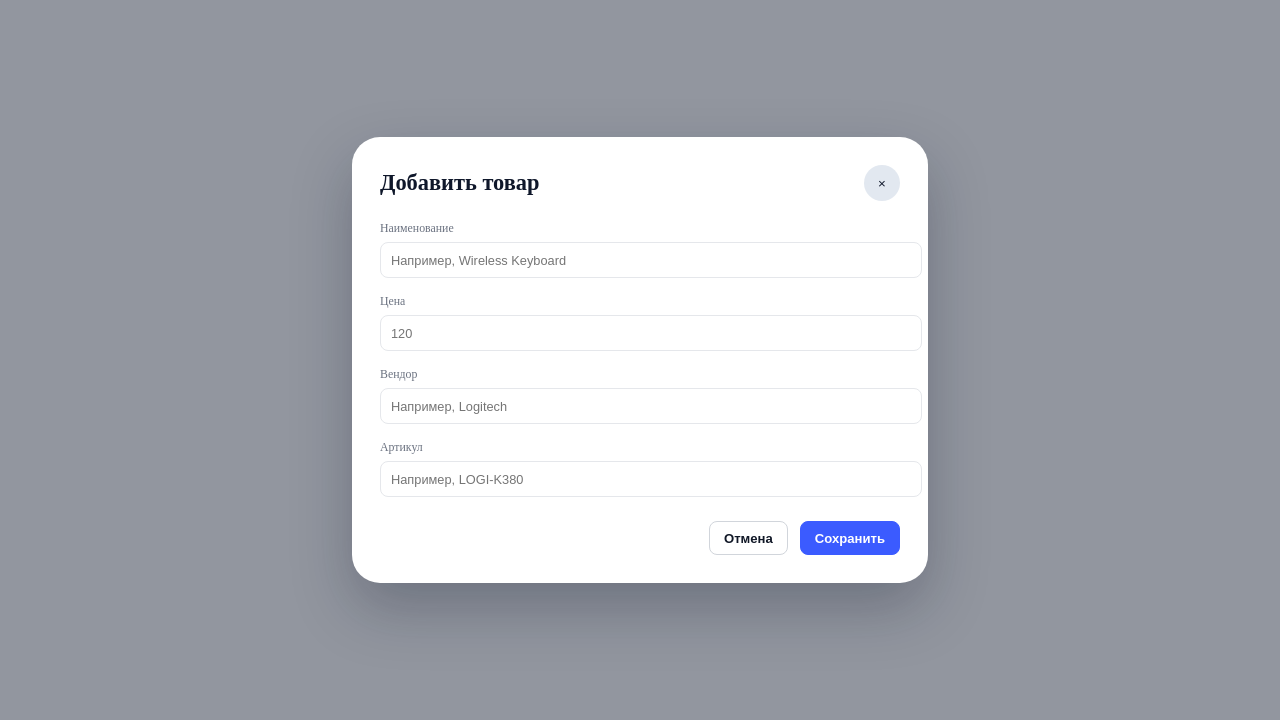
it: AddProductModal › shows validation errors when required fields are empty
This screenshot has width=1280, height=720.
Click the button "Сохранить" at (850, 538), box left=800, top=521, right=900, bottom=555
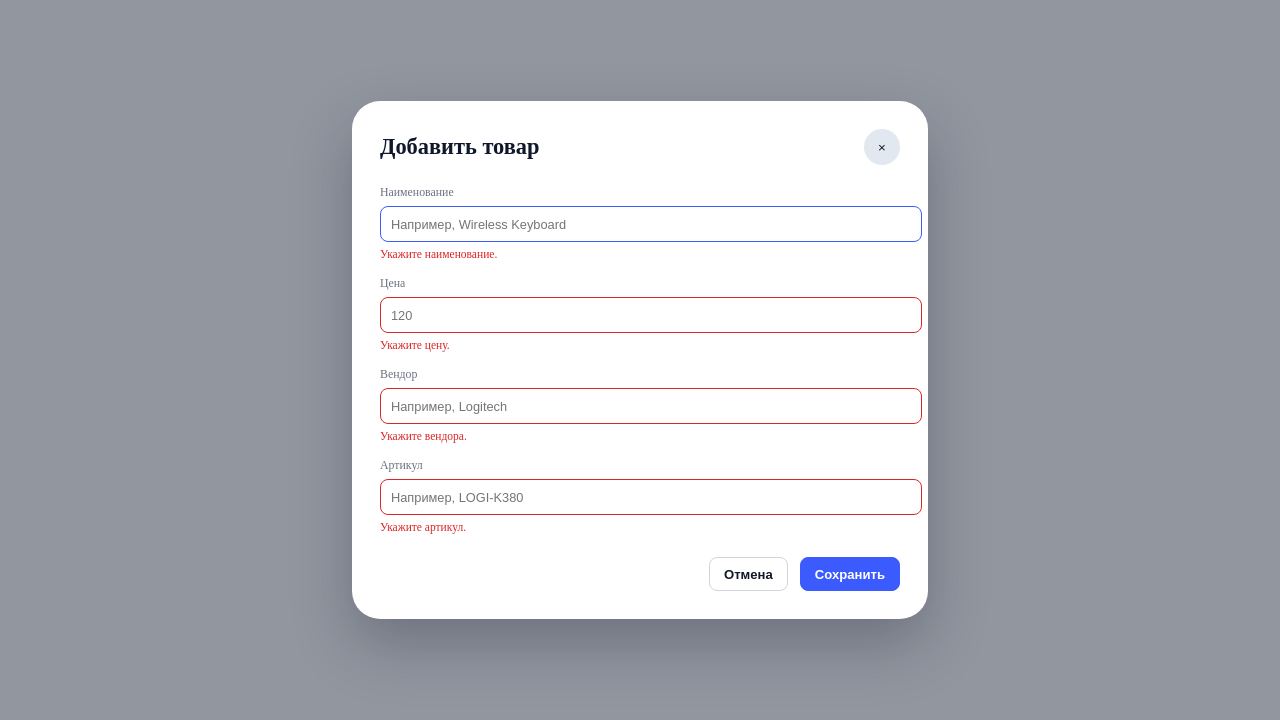
Expected: the text "Укажите наименование." is shown, left=380, top=248, right=497, bottom=260
Expected: the text "Укажите цену." is shown, left=380, top=339, right=450, bottom=351
Expected: the text "Укажите вендора." is shown, left=380, top=430, right=467, bottom=442
